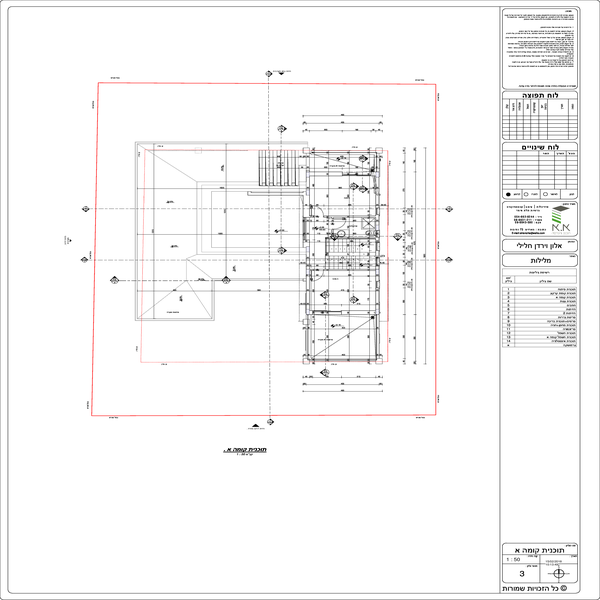room: (197, 183, 305, 255), (306, 152, 376, 217), (305, 217, 377, 268), (309, 313, 376, 361), (313, 271, 378, 313)
